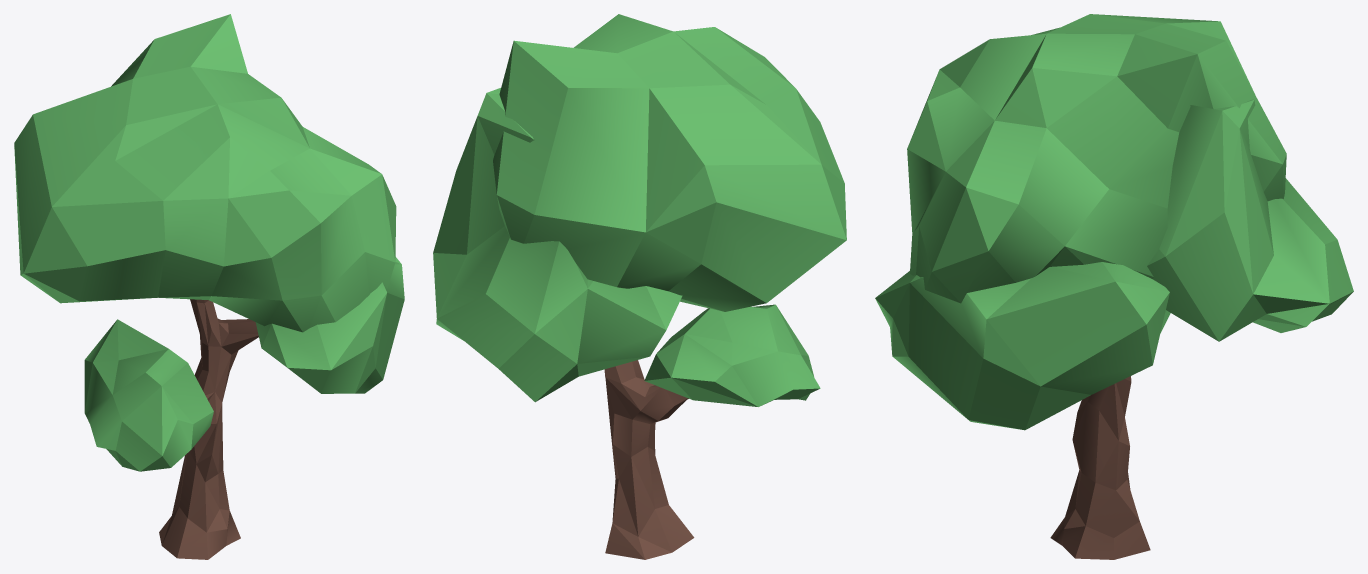
The model's file is tree_001.glb.
3 renders of one model, left to right at view 1: azimuth 30°, elevation 25°; view 2: azimuth 150°, elevation 25°; view 3: azimuth 270°, elevation 25°, orthographic. The views are drawn at different scales.
Parts seen in each view (by area): view 1: tree_001; view 2: tree_001; view 3: tree_001.
Boxes of the visible parts, x1,y1,x2,y2 form: tree_001: [14, 14, 404, 559]; tree_001: [433, 14, 846, 559]; tree_001: [875, 14, 1353, 559].
Bounding box in the file's own units: 3.26 × 4.4 × 3.57.
1 material, 1 textured.
